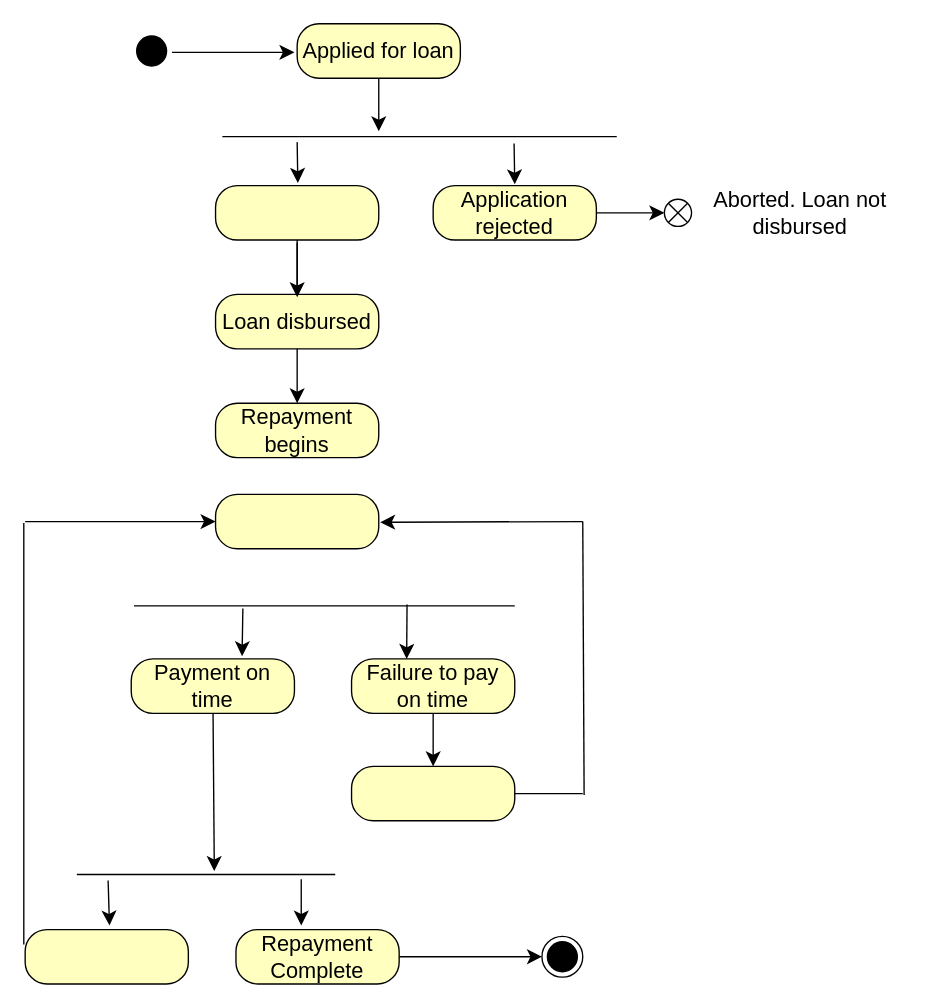
This 933x1008 diagram has some shape labels left out. Each missing label, with the centre of its shape:
"Application approved" belongs at (296,212).
"Loan delinquent" belongs at (432,793).
"Payment due" belongs at (296,521).
"Repayment incomplete" belongs at (106,956).
